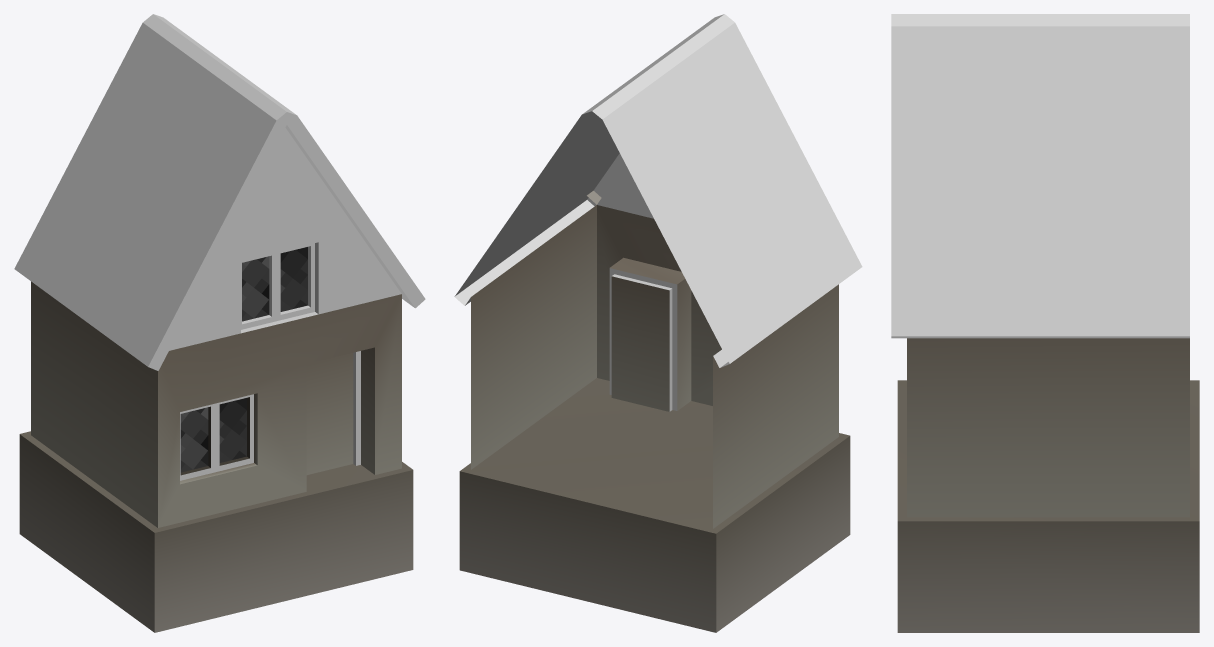
Rendered from Front_10.fbx.
3 renders of one model, left to right at view 1: azimuth 30°, elevation 25°; view 2: azimuth 150°, elevation 25°; view 3: azimuth 270°, elevation 25°, orthographic. The views are drawn at different scales.
Parts seen in each view (by area): view 1: Front_H.002, Front_H.011, Front_H.001, Front_H.003, Front_H.008, Front_H.018, Front_H.009, Front_H.004, Front_H.019, Front_H.010, Front_H.013, Front_H.016 (+8 smaller); view 2: Front_H.002, Front_H.011, Front_H.001, Front_H, Front_H.019, Front_H.018, Front_H.009, Front_H.016, Front_H.010, Front_H.008, Front_H.017, Front_H.003; view 3: Front_H.011, Front_H.002, Front_H.001, Front_H.009, Front_H.010, Front_H.019, Front_H, Front_H.008.
Boxes of the visible parts, left/top/right/bottom form: Front_H.002: left=31, top=281, right=401, bottom=527; Front_H.011: left=21, top=23, right=269, bottom=349; Front_H.001: left=19, top=434, right=413, bottom=632; Front_H.003: left=169, top=128, right=401, bottom=350; Front_H.008: left=148, top=112, right=425, bottom=370; Front_H.018: left=306, top=353, right=353, bottom=474; Front_H.009: left=14, top=107, right=296, bottom=366; Front_H.004: left=242, top=247, right=307, bottom=321; Front_H.019: left=155, top=397, right=412, bottom=532; Front_H.010: left=143, top=14, right=289, bottom=114; Front_H.013: left=180, top=407, right=208, bottom=472; Front_H.016: left=361, top=347, right=374, bottom=474; Front_H.002: left=471, top=205, right=838, bottom=528; Front_H.011: left=461, top=28, right=848, bottom=351; Front_H.001: left=459, top=436, right=850, bottom=632; Front_H: left=460, top=190, right=849, bottom=533; Front_H.019: left=460, top=378, right=849, bottom=470; Front_H.018: left=611, top=276, right=669, bottom=411; Front_H.009: left=454, top=14, right=862, bottom=363; Front_H.016: left=610, top=257, right=691, bottom=410; Front_H.010: left=582, top=19, right=727, bottom=119; Front_H.008: left=455, top=153, right=729, bottom=367; Front_H.017: left=609, top=268, right=677, bottom=411; Front_H.003: left=597, top=164, right=653, bottom=218; Front_H.011: left=907, top=26, right=1189, bottom=320; Front_H.002: left=907, top=338, right=1189, bottom=517; Front_H.001: left=897, top=521, right=1199, bottom=632; Front_H.009: left=891, top=14, right=1189, bottom=336; Front_H.010: left=907, top=14, right=1189, bottom=26; Front_H.019: left=897, top=381, right=1198, bottom=521; Front_H: left=898, top=380, right=1199, bottom=521; Front_H.008: left=891, top=336, right=1189, bottom=338.
Size of the model in its own units: 569 by 962 by 490.
